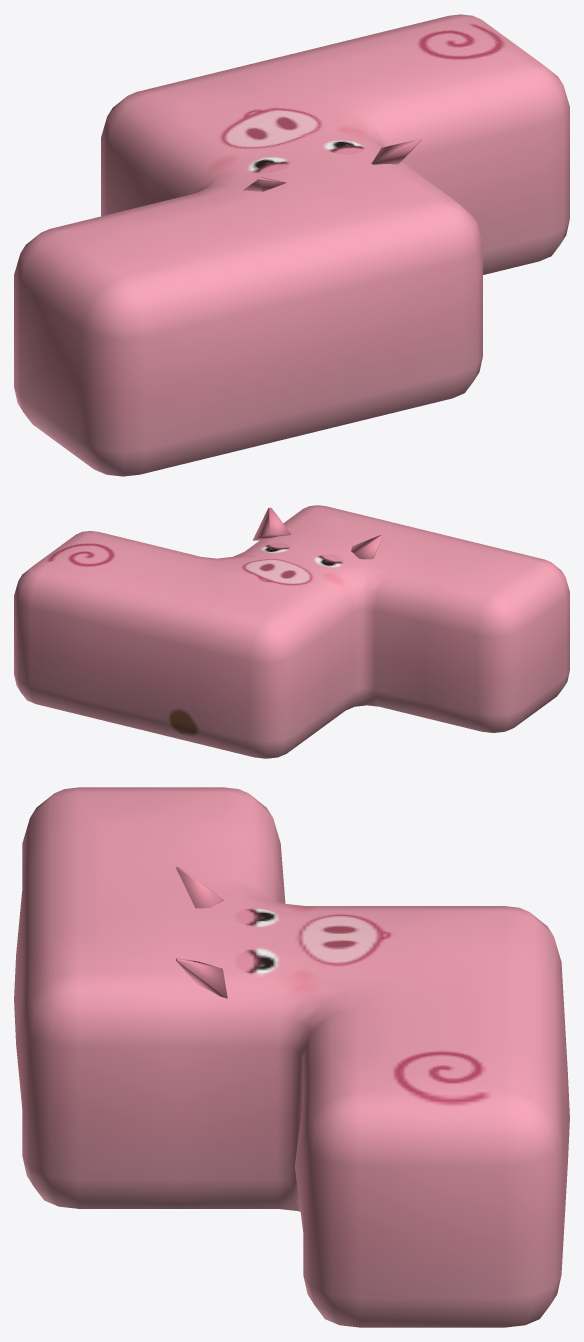
File: Pig_S.fbx
The picture shows the model from 3 angles, top to bottom: view 1: azimuth 30°, elevation 25°; view 2: azimuth 150°, elevation 25°; view 3: azimuth 270°, elevation 25°; orthographic projection. The views are drawn at different scales.
Visible parts, largest first — view 1: Pig_S; view 2: Pig_S; view 3: Pig_S.
Boxes of the visible parts, x1,y1,x2,y2 form: Pig_S: (14,14,569,476); Pig_S: (14,505,569,758); Pig_S: (14,787,569,1327).
Size of the model in its own units: 2.98 by 0.9771 by 1.98.
1 material, 1 textured.
